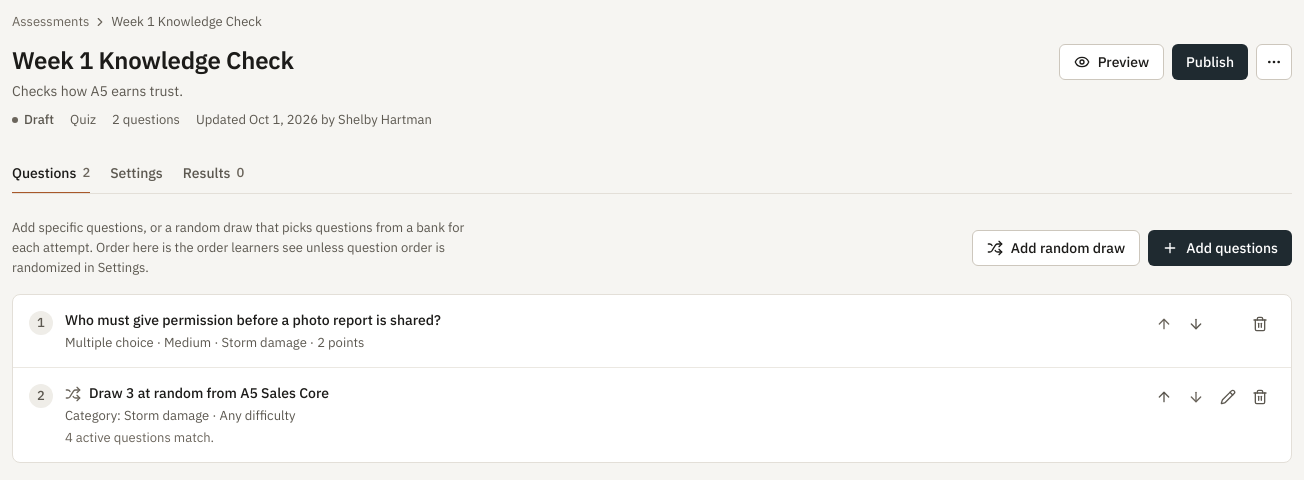
it: AssessmentBuilderPage › publishing › only lets a draft with no attempts be deleted
Click the button named "More actions": (1274, 62) [1256,44,1292,80]
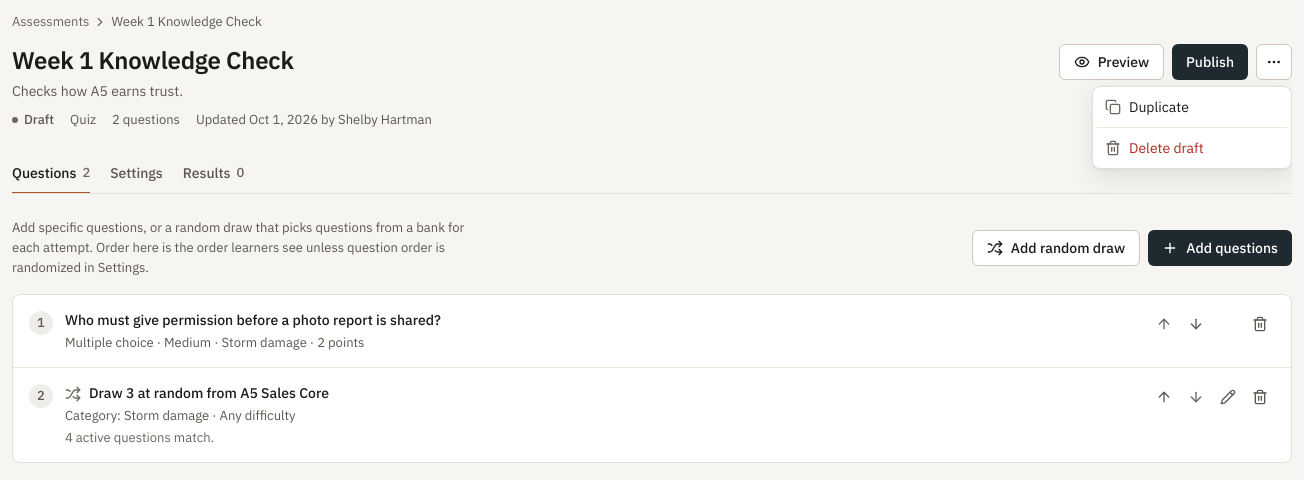
Expected: the menu item "Delete draft" is shown, [1105,139,1204,157]
